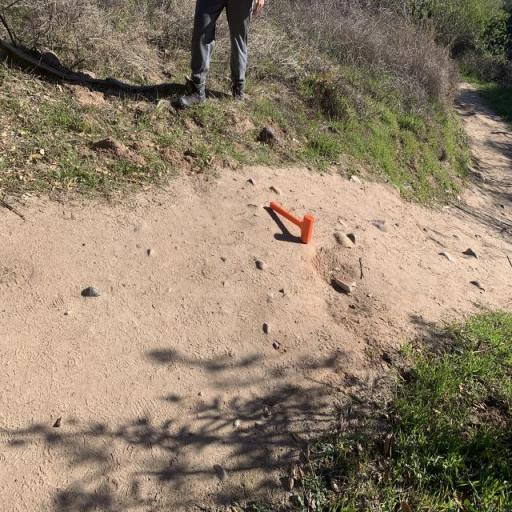mallet: (270, 201, 314, 243)
